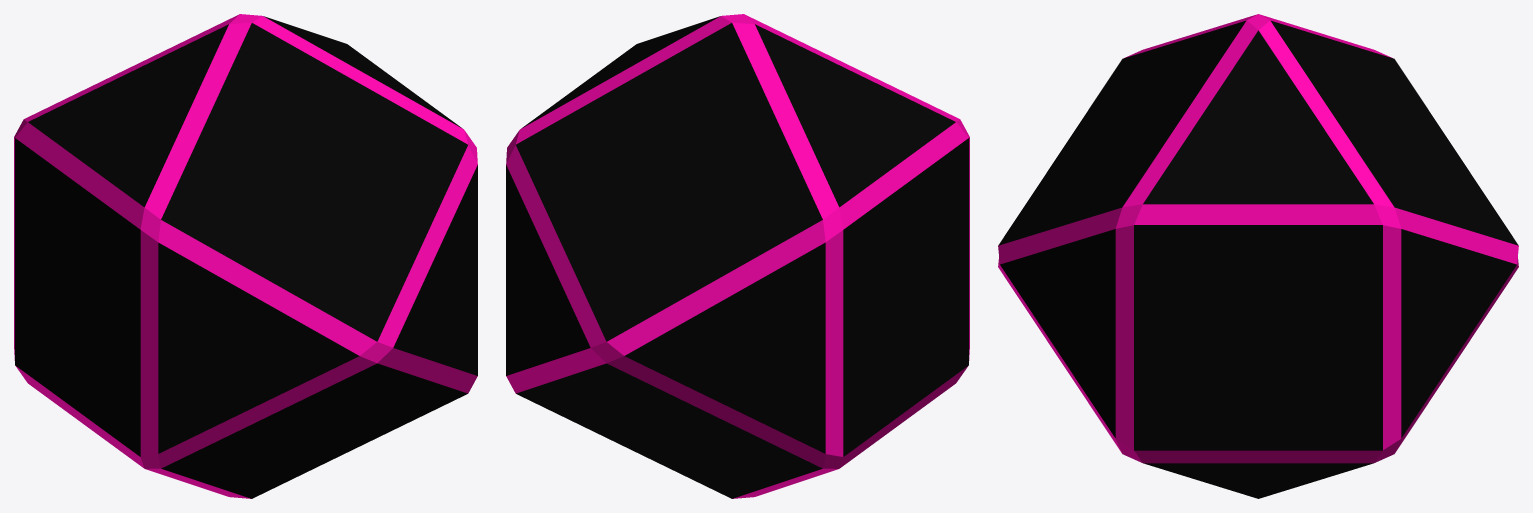
File: mine.FBX
3 views of the same model, side by side, from view 1: azimuth 30°, elevation 25°; view 2: azimuth 150°, elevation 25°; view 3: azimuth 270°, elevation 25° (orthographic).
Visible parts, largest first — view 1: Hedra001; view 2: Hedra001; view 3: Hedra001.
Part boxes in pixels (x1,y1,x2,y2): Hedra001: (14,14,477,498); Hedra001: (506,14,969,498); Hedra001: (998,14,1518,498).
Bounding box in the file's own units: 22.27 × 30.13 × 30.13.
